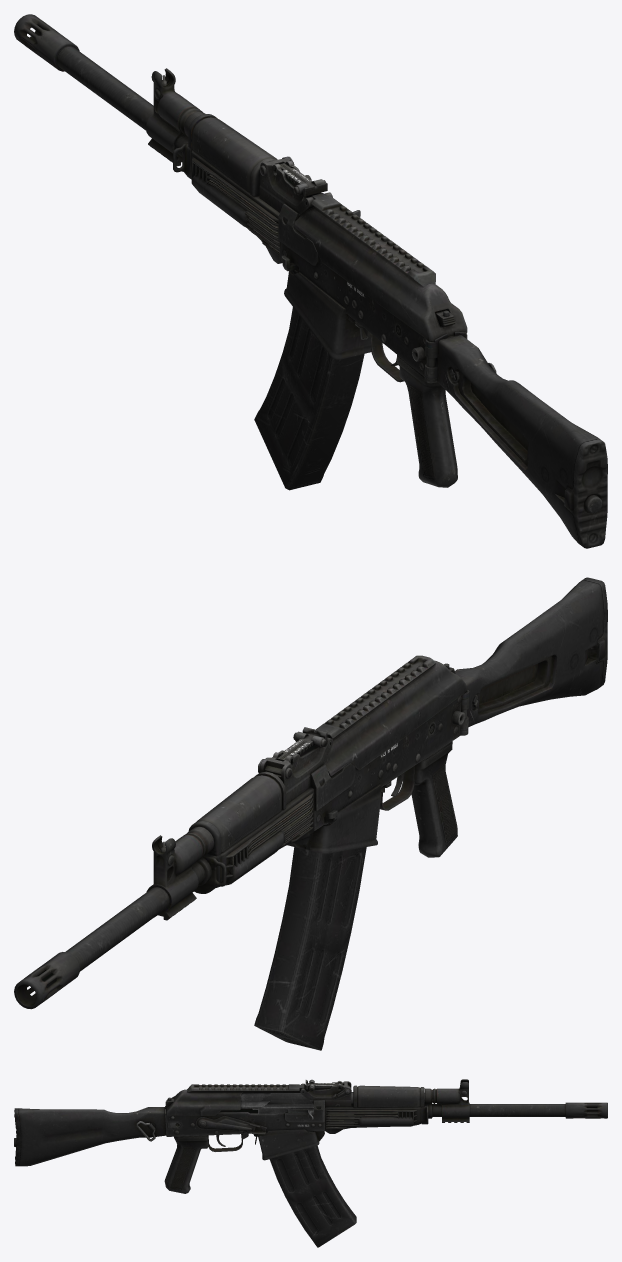
The picture shows the model from 3 angles, top to bottom: view 1: azimuth 30°, elevation 25°; view 2: azimuth 150°, elevation 25°; view 3: azimuth 270°, elevation 25°; orthographic projection. The views are drawn at different scales.
Parts seen in each view (by area): view 1: S12K_Body, Mag; view 2: S12K_Body, Mag; view 3: S12K_Body, Mag.
Part boxes in pixels (<box>): S12K_Body: <box>14,14,607,548</box>; Mag: <box>254,412,341,490</box>; S12K_Body: <box>14,577,607,1032</box>; Mag: <box>255,958,339,1050</box>; S12K_Body: <box>14,1079,607,1229</box>; Mag: <box>296,1207,354,1247</box>.
Bounding box in the file's own units: 0.0818 × 0.3177 × 1.05.
Materials: 3 (3 with a texture image).
